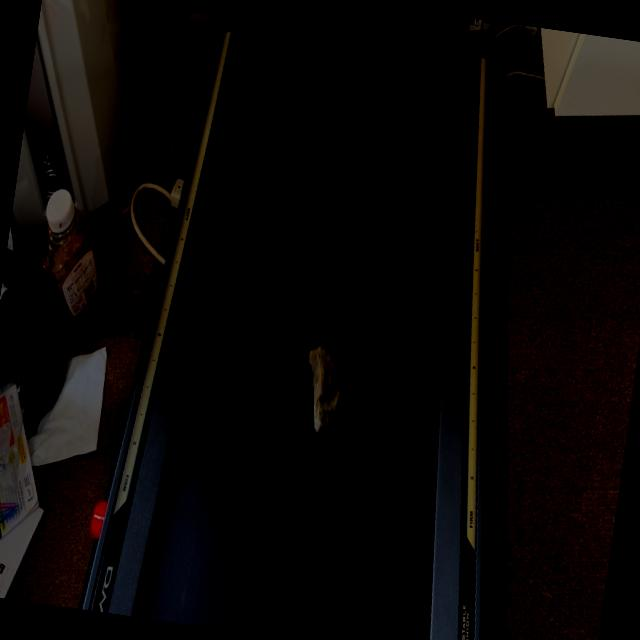Trash: (294, 336, 351, 444)
